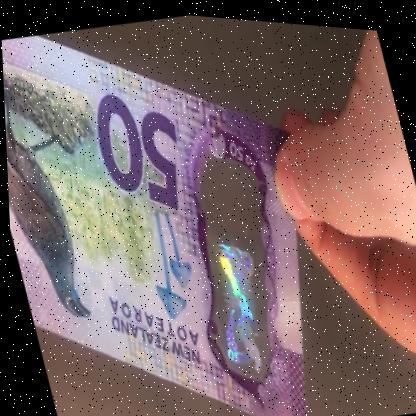50B: (176, 148, 286, 377)
